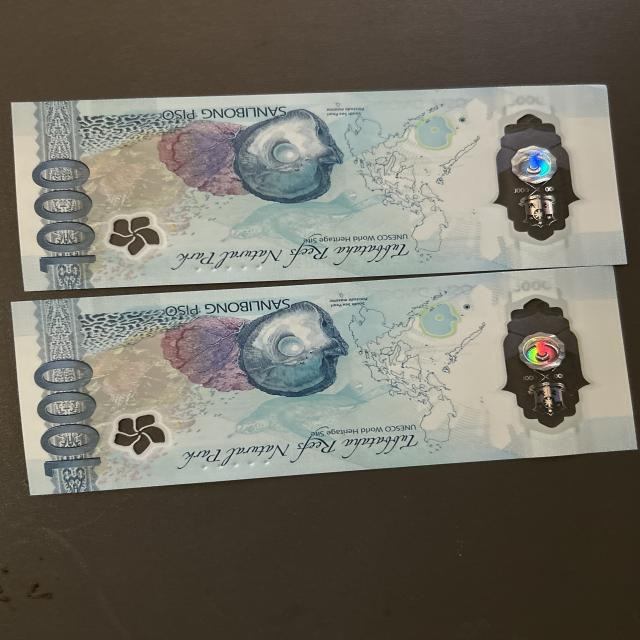clear_window: (499, 289, 601, 437), (486, 117, 586, 241)
sampaguita: (107, 407, 171, 463), (110, 212, 168, 256)
value: (28, 360, 109, 475), (29, 162, 99, 274)
